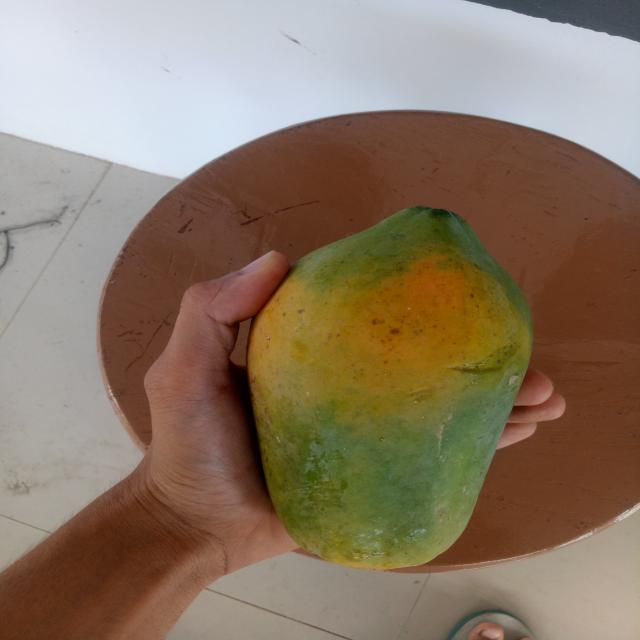Pepaya rippen: (245, 199, 535, 573)
